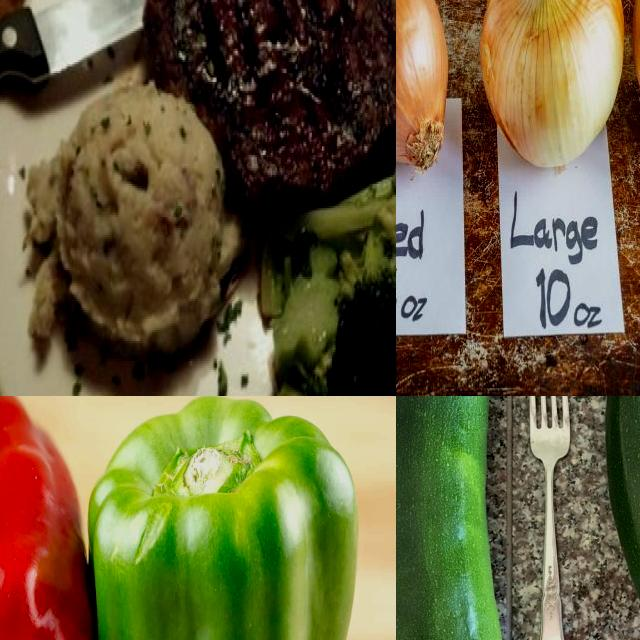bell_pepper: (86, 397, 360, 640), (1, 397, 95, 640)
onion: (479, 1, 626, 176), (397, 1, 451, 173)
zucchini: (397, 397, 521, 640)
